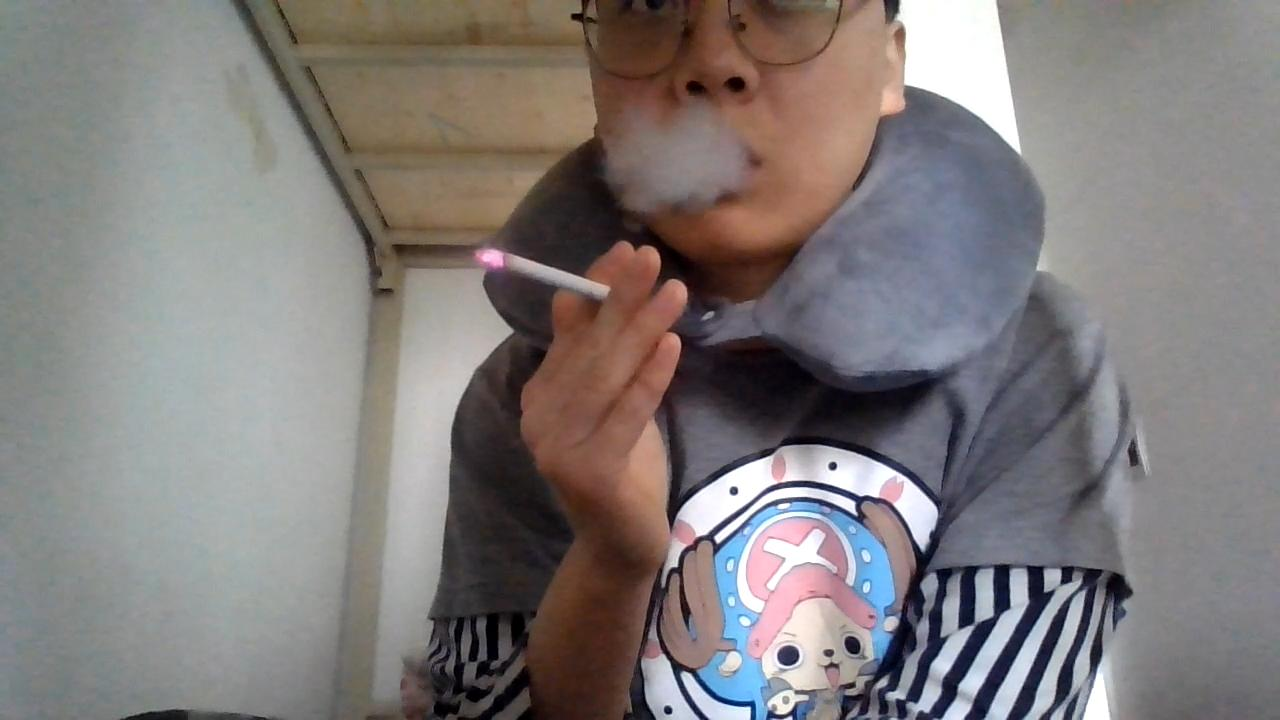yanwu: (594, 101, 755, 218)
